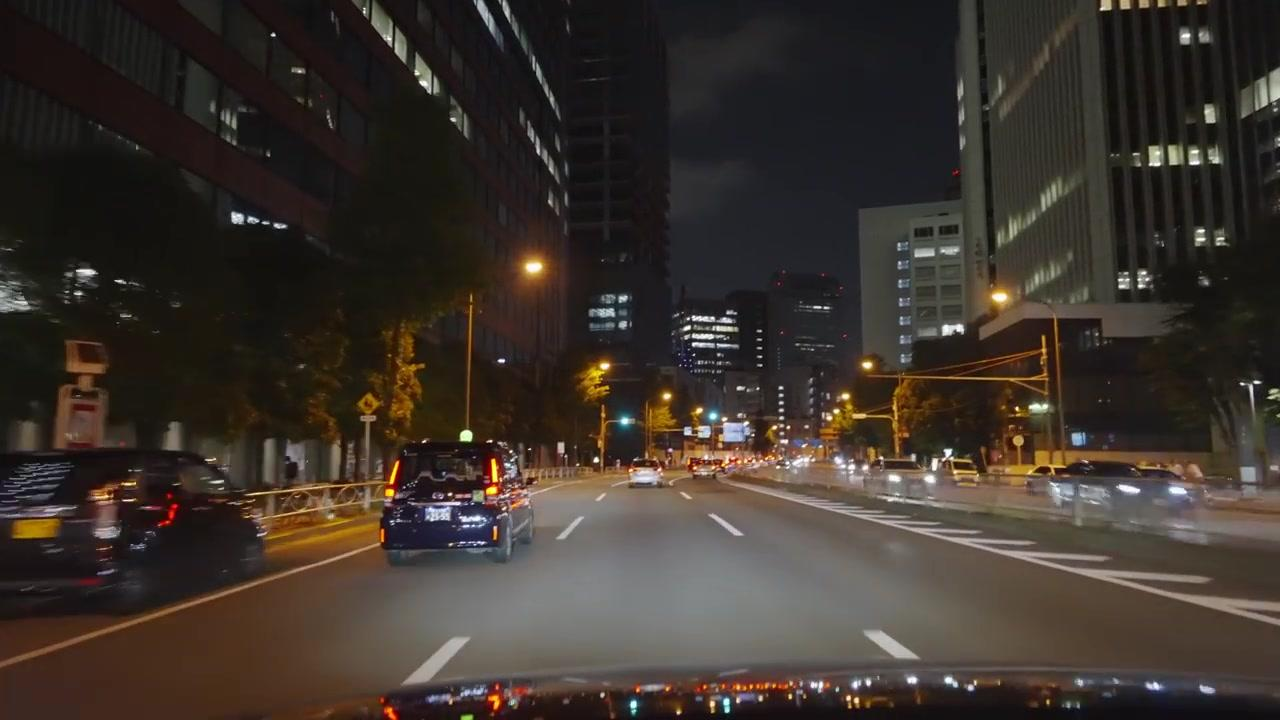car: (0, 445, 268, 610), (378, 438, 536, 565), (1050, 461, 1196, 518), (1023, 462, 1064, 494), (948, 458, 980, 486), (628, 464, 662, 488), (690, 461, 716, 479)
